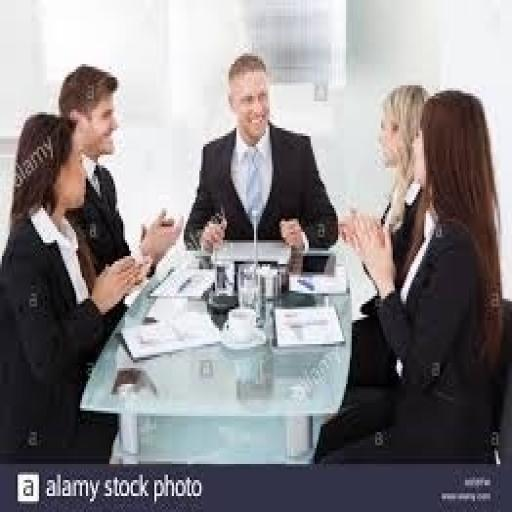clapping: (313, 83, 500, 464), (0, 110, 145, 462), (43, 70, 196, 315), (182, 51, 340, 256)
